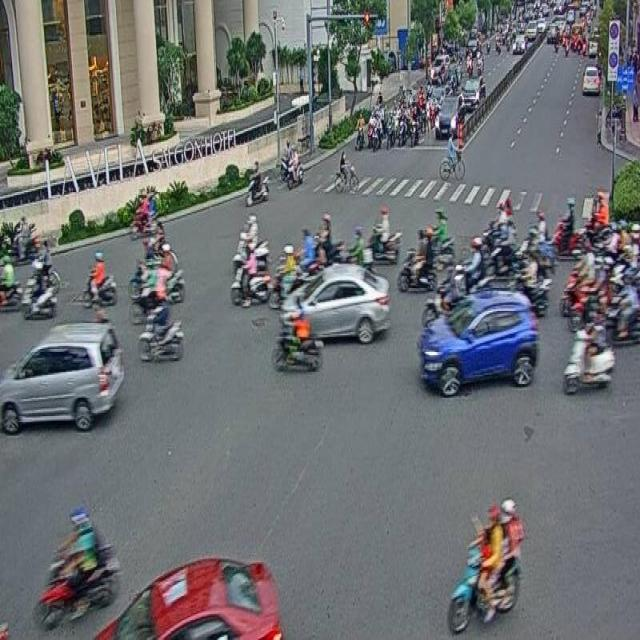car: (91, 556, 281, 640), (0, 323, 122, 436), (418, 288, 540, 396), (280, 262, 390, 344)
motorcycle: (447, 494, 522, 635), (80, 250, 118, 309)
